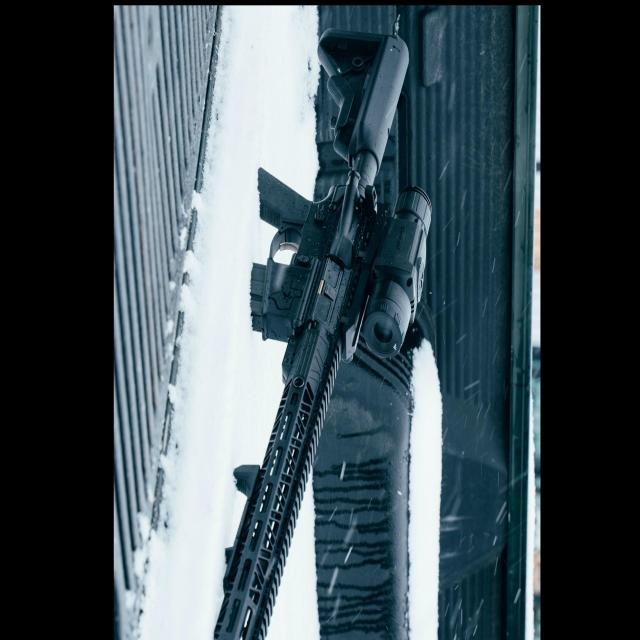weapon: (210, 28, 432, 640)
